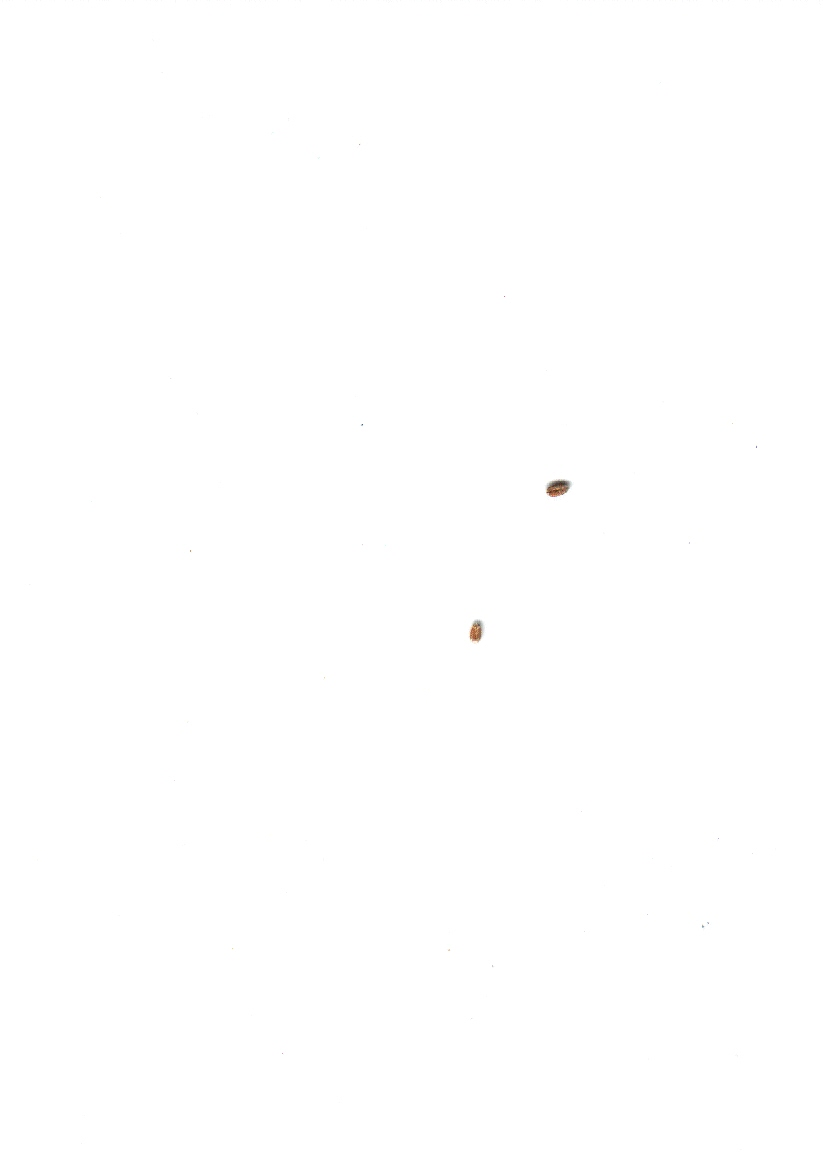grains: (536, 464, 581, 512), (455, 612, 497, 655)
